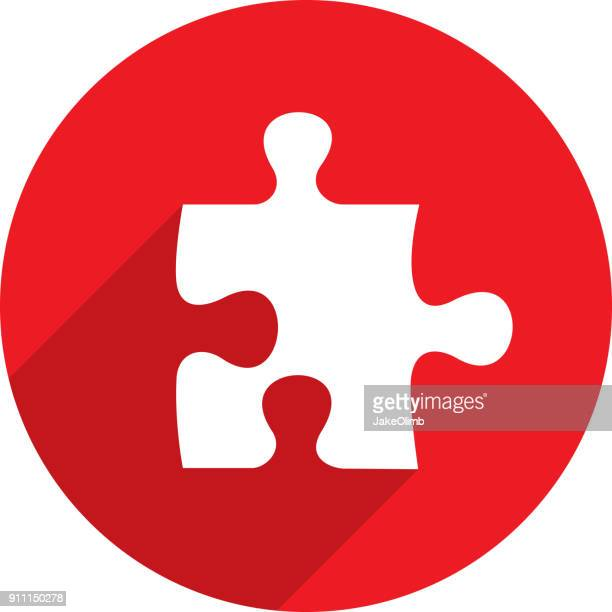puzzle piece: (139, 99, 527, 484)
